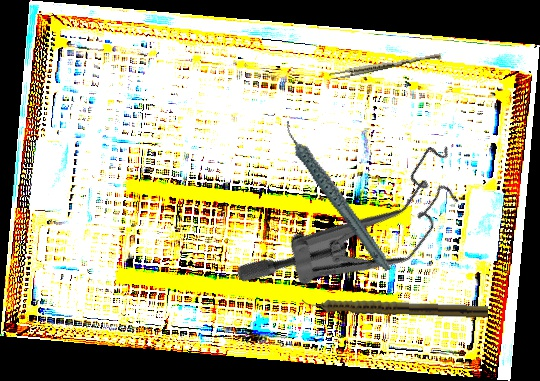Handpiece: (282, 104, 394, 287), (301, 295, 489, 319)
Speculum: (230, 88, 485, 358)
Tissue Forceps: (328, 49, 442, 83)
